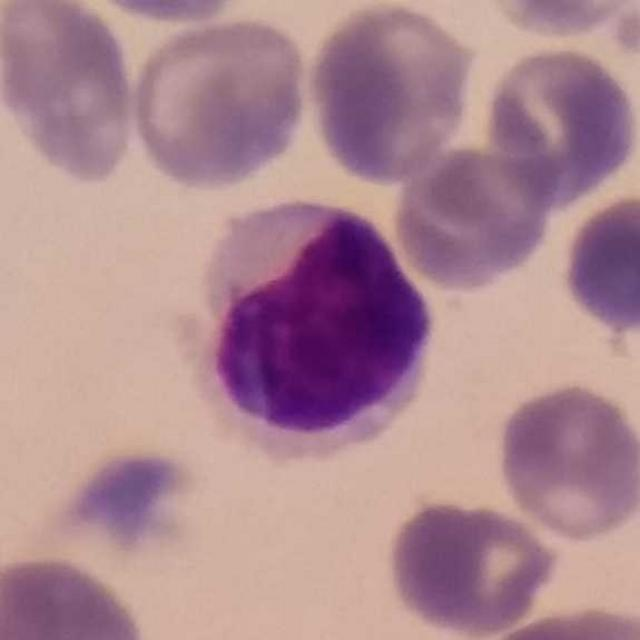Lymphocyte: (189, 187, 445, 464)
RBC: (126, 10, 313, 195), (302, 0, 482, 187), (478, 41, 640, 209), (0, 0, 141, 190), (381, 493, 563, 639), (387, 140, 559, 293), (492, 378, 640, 546), (25, 443, 212, 564), (0, 548, 154, 640), (556, 188, 640, 342), (478, 0, 639, 47), (473, 602, 639, 640), (70, 0, 257, 27)
